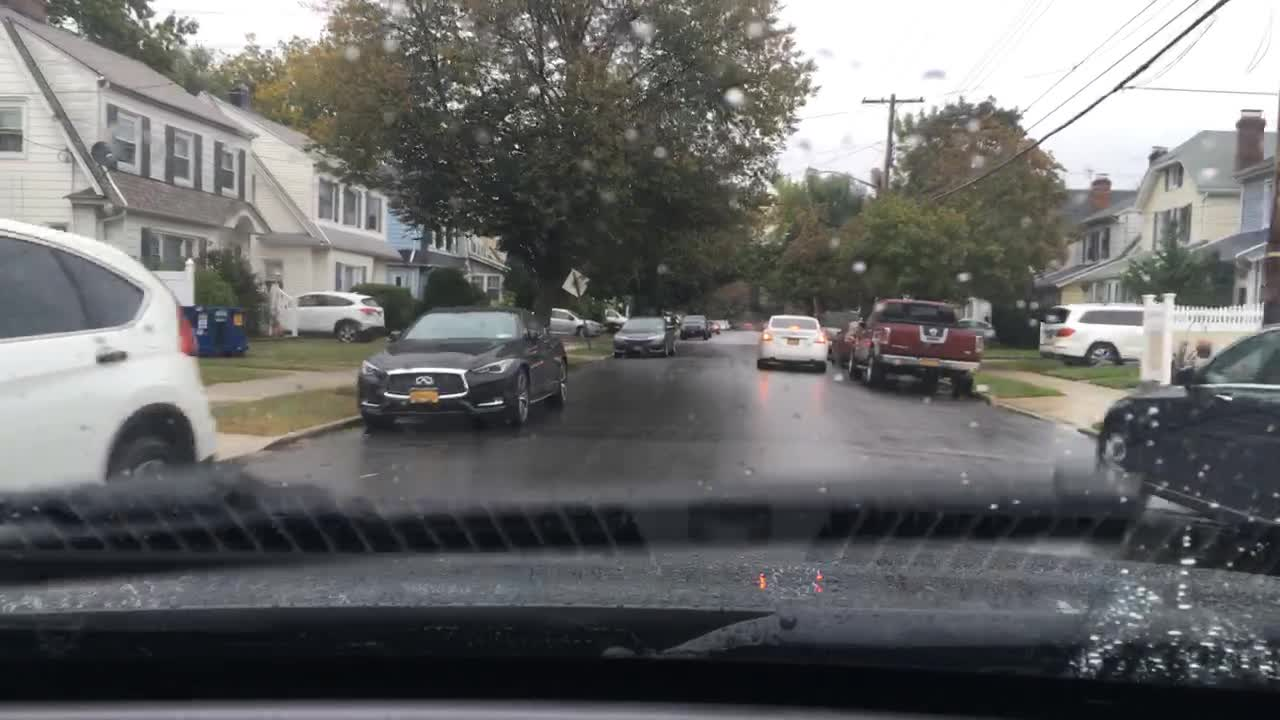car: (0, 213, 221, 487), (1098, 326, 1277, 522), (355, 303, 570, 432), (1035, 300, 1150, 368), (278, 290, 390, 342), (756, 311, 827, 369), (609, 311, 680, 360), (544, 303, 598, 339), (827, 317, 862, 366), (678, 313, 706, 340), (600, 305, 636, 325), (821, 320, 842, 343), (704, 316, 717, 335), (718, 316, 730, 329)
traffic sign: (560, 268, 589, 294)
truck: (847, 300, 981, 394)
